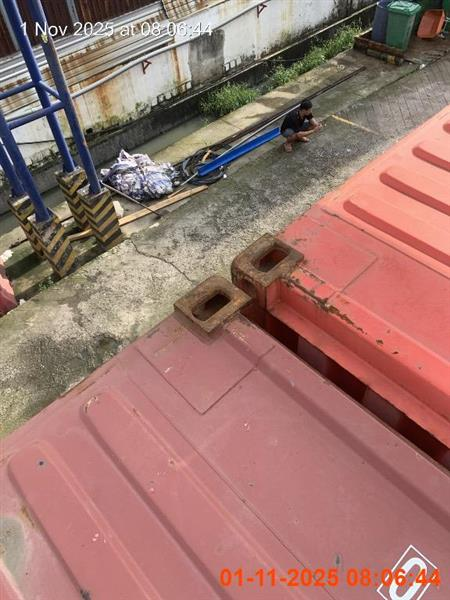broken: (279, 100, 321, 152)
